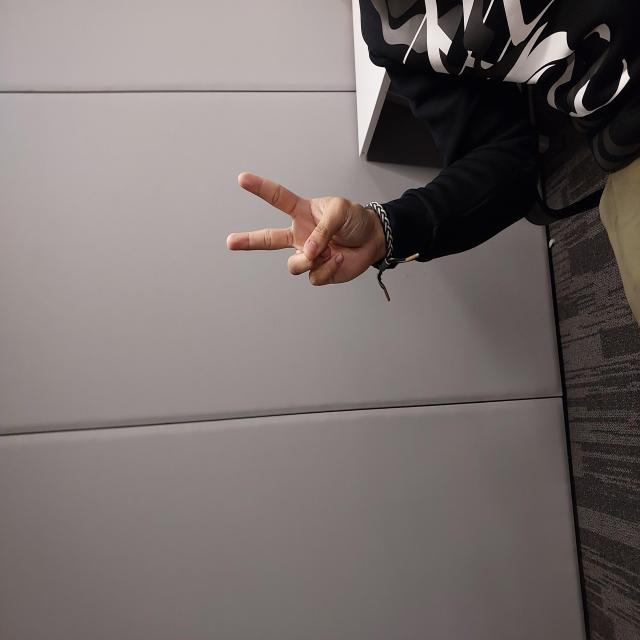V: (352, 225, 468, 377)
